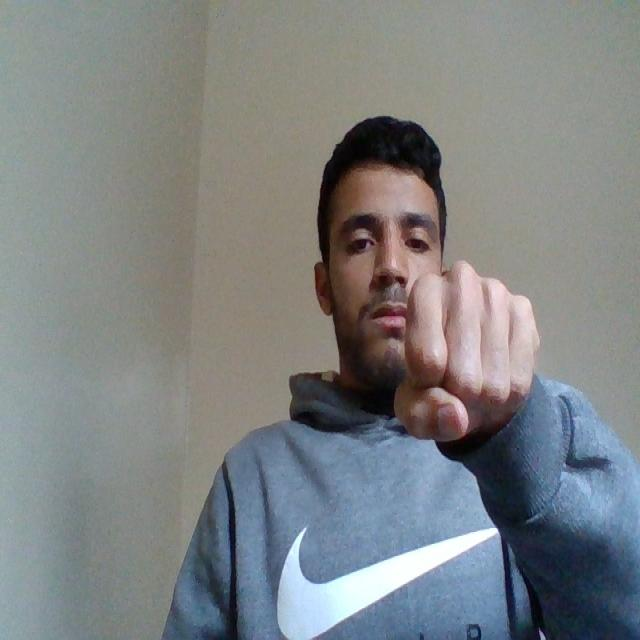No: (389, 256, 540, 443)
